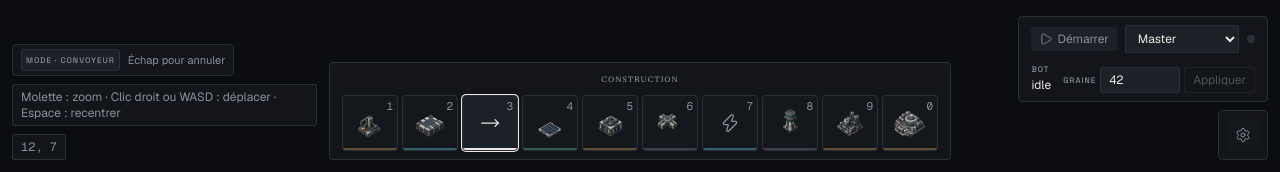
it: GameHUD › toggles belt placement back to select mode on second click
Click the button named "Convoyeur" at (490,123), box x1=462 y1=95 x2=518 y2=151
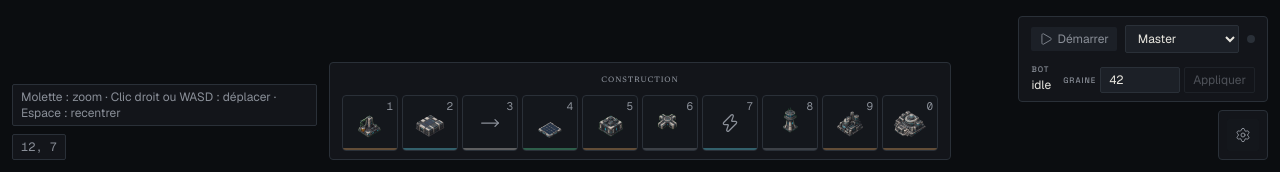
Check: the button named "Convoyeur" is not pressed, box x1=462 y1=95 x2=518 y2=151
